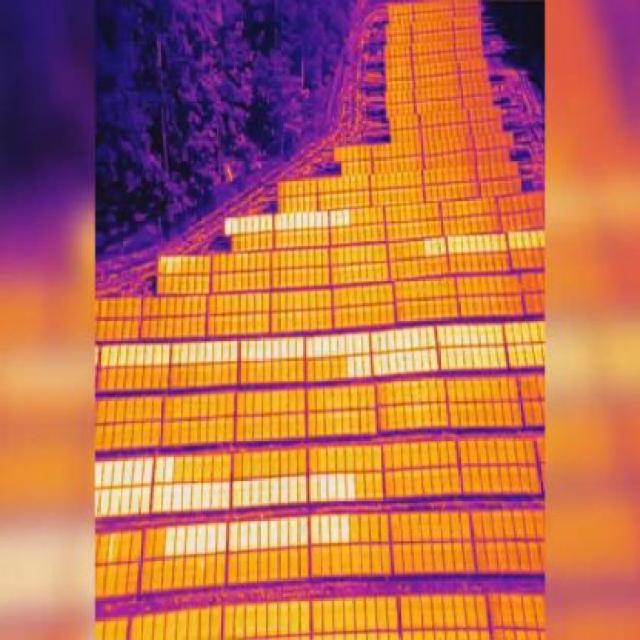diode: (254, 476, 266, 506), (236, 478, 247, 508), (114, 457, 126, 483), (142, 459, 155, 483), (322, 515, 333, 543), (102, 456, 113, 484), (312, 514, 322, 544), (164, 456, 176, 481), (290, 518, 301, 545), (186, 528, 197, 555), (123, 457, 135, 481), (249, 522, 260, 548), (258, 520, 268, 548), (99, 485, 110, 510), (241, 522, 250, 552), (228, 524, 238, 551), (133, 458, 144, 482), (152, 458, 163, 482), (198, 526, 208, 552), (165, 483, 173, 514), (270, 521, 279, 548), (246, 476, 254, 506), (280, 520, 289, 546), (167, 528, 176, 554), (324, 474, 333, 500), (298, 476, 307, 502), (141, 483, 150, 509), (212, 480, 220, 509), (110, 487, 121, 508), (314, 475, 323, 500), (270, 476, 279, 501), (333, 516, 341, 544), (302, 515, 310, 543), (262, 475, 270, 503), (193, 479, 201, 507), (122, 486, 132, 508), (258, 335, 268, 357), (522, 323, 532, 345), (108, 532, 115, 563), (210, 524, 218, 551), (186, 482, 194, 509), (120, 342, 129, 366), (454, 325, 464, 346), (349, 474, 357, 500), (290, 476, 298, 502), (497, 324, 506, 347), (95, 456, 103, 481), (100, 343, 109, 365), (267, 335, 276, 357), (487, 323, 496, 345), (175, 483, 182, 511), (333, 474, 341, 498), (280, 477, 288, 501), (528, 349, 540, 365), (292, 335, 302, 354), (178, 528, 185, 555), (154, 485, 161, 512), (130, 343, 138, 366), (342, 473, 349, 499), (342, 514, 348, 544), (496, 352, 506, 370), (163, 342, 171, 364), (137, 343, 145, 365), (390, 332, 398, 354), (512, 322, 520, 344), (357, 356, 365, 378), (472, 350, 480, 372), (490, 350, 498, 372), (498, 352, 509, 368), (306, 335, 314, 357), (180, 346, 189, 365), (293, 212, 302, 231), (111, 345, 120, 364), (363, 358, 372, 377), (230, 479, 236, 507), (222, 479, 228, 507), (133, 482, 139, 510), (145, 344, 153, 365), (240, 341, 248, 362), (386, 354, 394, 375), (453, 347, 461, 368), (220, 524, 226, 551), (349, 337, 358, 355), (464, 325, 473, 343), (412, 328, 420, 348), (199, 342, 206, 364), (285, 336, 292, 358), (335, 335, 342, 357), (439, 326, 446, 348), (395, 355, 402, 377), (504, 323, 511, 345), (277, 336, 285, 355), (473, 326, 481, 345), (447, 352, 455, 371), (202, 480, 208, 505), (439, 352, 446, 373), (464, 351, 471, 372), (260, 214, 268, 232), (287, 212, 295, 230), (207, 345, 215, 363), (250, 340, 258, 358), (358, 338, 367, 354), (429, 327, 437, 345), (375, 358, 383, 376), (526, 232, 534, 250), (520, 350, 528, 368), (246, 215, 254, 232), (279, 213, 287, 230), (440, 239, 448, 256), (479, 235, 487, 252), (222, 343, 229, 362), (342, 335, 349, 354), (422, 326, 429, 345), (405, 355, 412, 374), (414, 355, 421, 374), (431, 353, 438, 372), (382, 333, 388, 355), (540, 320, 546, 342), (302, 212, 310, 228), (456, 238, 464, 254), (173, 258, 181, 274), (94, 342, 100, 363), (154, 345, 161, 363), (189, 345, 196, 363), (328, 338, 335, 356), (231, 341, 238, 359), (374, 335, 381, 353), (422, 355, 429, 373), (481, 350, 488, 368), (449, 238, 456, 256), (350, 357, 356, 378), (510, 347, 516, 368), (310, 476, 315, 501), (172, 346, 178, 366), (532, 322, 538, 342), (425, 241, 433, 256), (510, 237, 518, 252), (489, 235, 496, 252), (502, 236, 509, 253), (539, 349, 546, 366), (316, 338, 322, 357), (521, 233, 527, 252), (324, 336, 330, 355), (226, 218, 232, 237), (239, 218, 247, 232), (309, 213, 316, 229), (331, 212, 338, 228), (343, 212, 351, 226), (482, 325, 487, 347), (254, 214, 260, 232), (407, 332, 413, 350), (448, 327, 454, 345), (474, 237, 481, 252), (434, 239, 440, 256), (167, 257, 173, 274), (464, 238, 471, 252), (322, 213, 330, 225), (400, 333, 406, 349), (233, 218, 238, 237), (496, 238, 502, 253), (370, 334, 375, 351), (96, 484, 99, 511), (215, 342, 219, 360), (537, 233, 541, 250), (317, 211, 321, 227), (275, 215, 279, 230), (268, 217, 272, 231), (338, 214, 342, 228), (542, 233, 544, 247)
hotspot: (160, 258, 165, 267)
